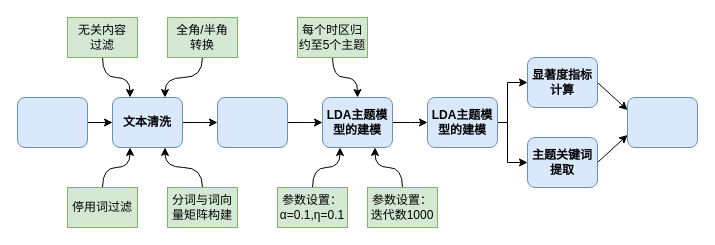
Image size: 715x245. Some labels were removed from this diagram. The shapes that lost their labels are listed below. From the top down, each one's box as (x1, y1, x2, y2) in pixels, then its label:
(16, 96, 88, 148): 微博内容
(216, 96, 288, 148): 时间区域 划分
(626, 96, 698, 148): 可视化方法
